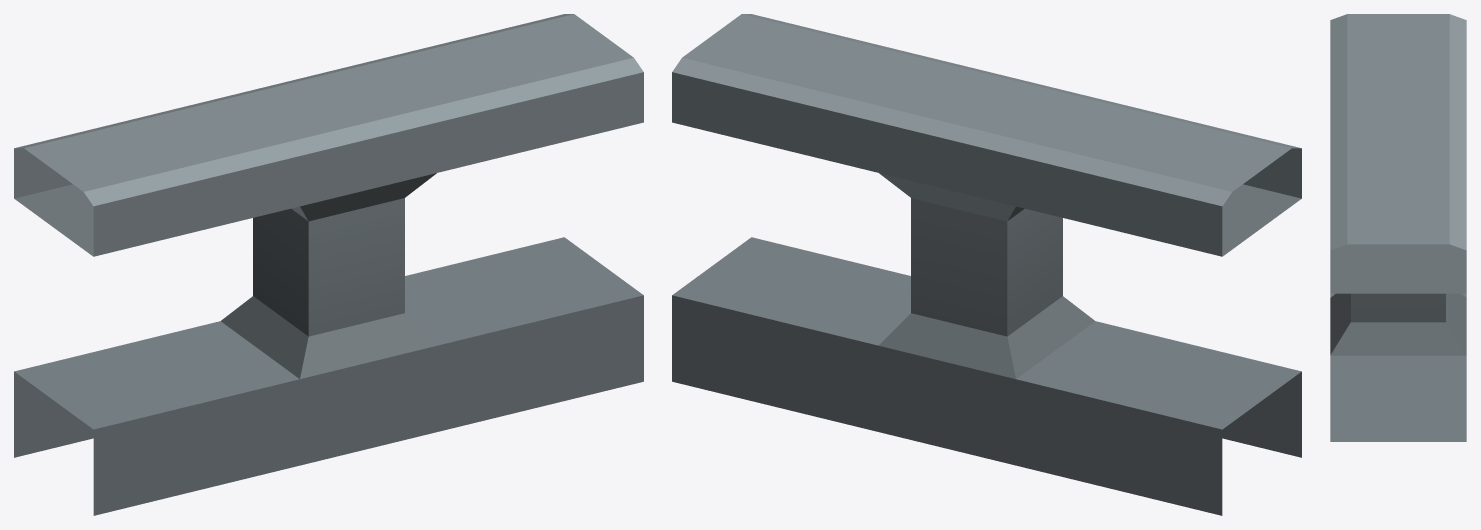
The model's file is barrier_half.obj.
The picture shows the model from 3 angles, left to right: view 1: azimuth 30°, elevation 25°; view 2: azimuth 150°, elevation 25°; view 3: azimuth 270°, elevation 25°; orthographic projection. The views are drawn at different scales.
Parts seen in each view (by area): view 1: barrier_half; view 2: barrier_half; view 3: barrier_half.
Boxes of the visible parts, left/top/right/bottom form: barrier_half: left=14, top=14, right=643, bottom=515; barrier_half: left=672, top=14, right=1301, bottom=515; barrier_half: left=1330, top=14, right=1466, bottom=441.
Size of the model in its own units: 2 by 1.1 by 0.5.
Materials: 1 (1 with a texture image).
